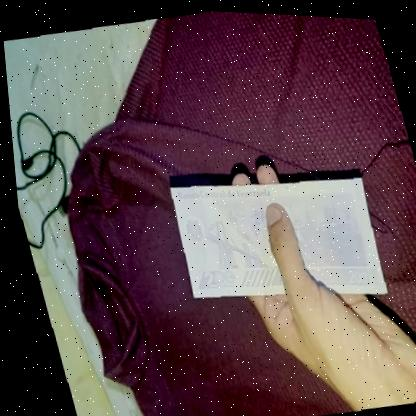two_hundred-back-vef: (158, 152, 388, 323)
